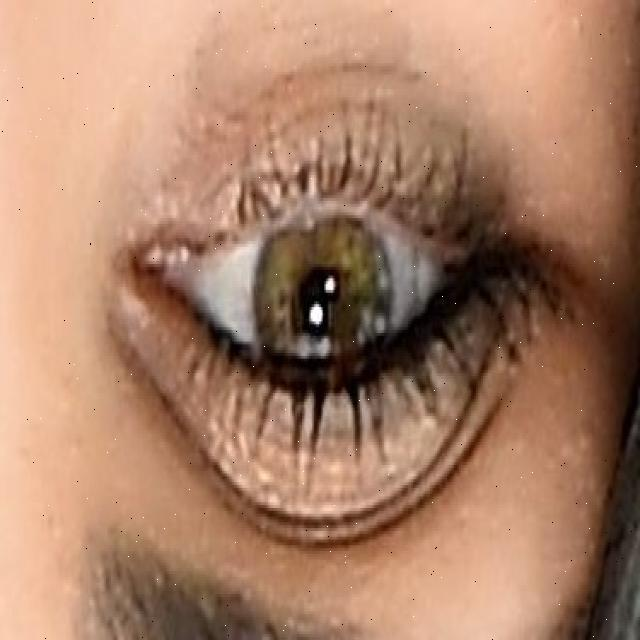Normal: (248, 184, 393, 430)
